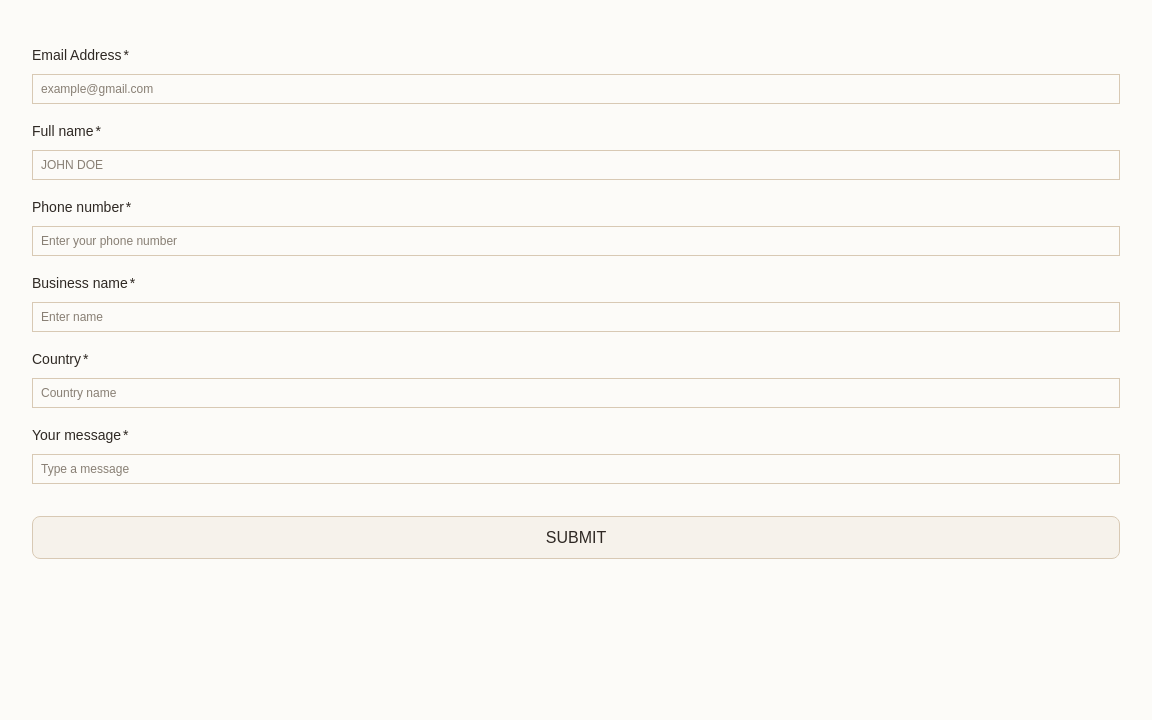
Test: PartnerForm › validates required fields and focuses the first invalid field
This screenshot has width=1152, height=720.
Click the button "SUBMIT" at {"x": 576, "y": 538}, box [32, 516, 1120, 559]
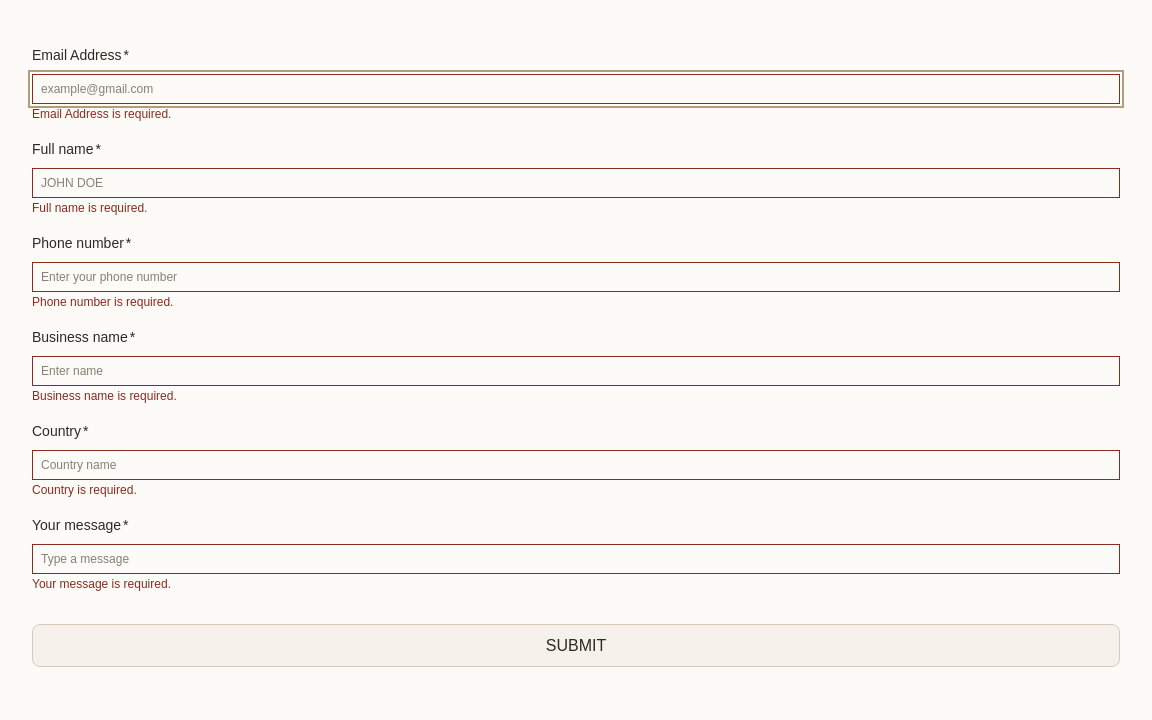
Result: the text "Email Address is required." is shown at [32, 107, 171, 121]
Result: the text "Phone number is required." is shown at [32, 295, 173, 309]
